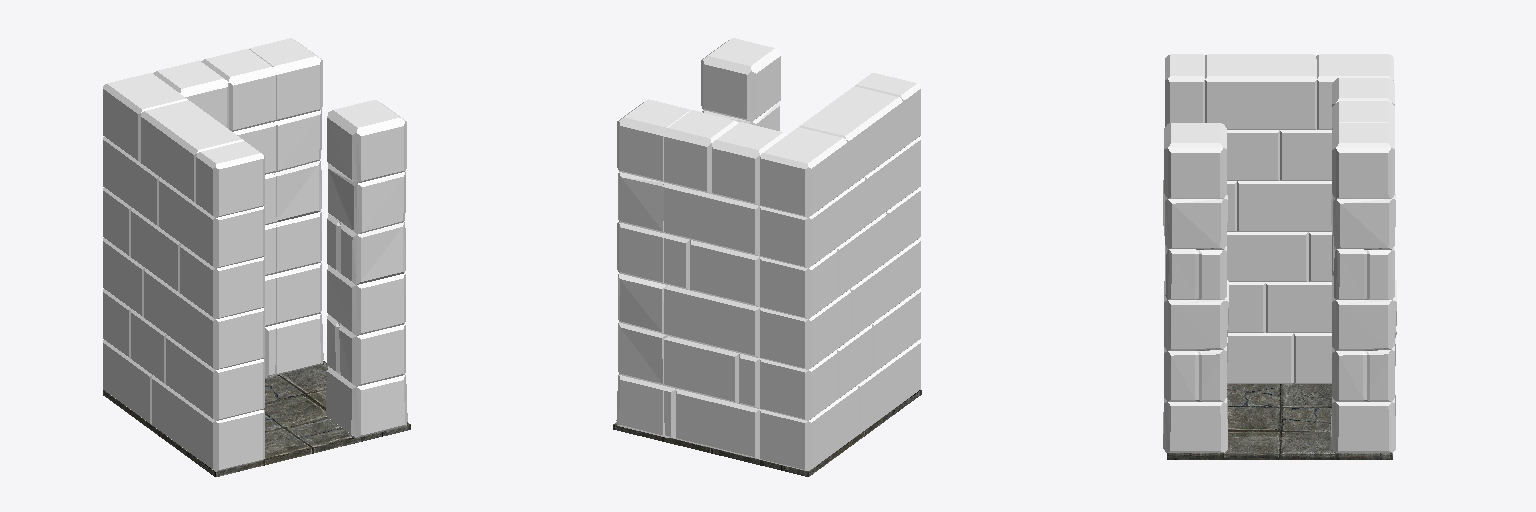
3 views of the same model, side by side, from view 1: azimuth 30°, elevation 25°; view 2: azimuth 150°, elevation 25°; view 3: azimuth 270°, elevation 25° (orthographic).
Parts seen in each view (by area): view 1: Box4139, Box4146, Box4145, Box001ui, Box4141; view 2: Box4139, Box001ui, Box4145, Box4146, Box4141; view 3: Box4139, Box4146, Box4145, Box4141, Box001ui.
Part boxes in pixels (left/top/right/bottom): Box4139: left=103, top=73, right=264, bottom=471; Box4146: left=326, top=100, right=407, bottom=437; Box4145: left=249, top=38, right=323, bottom=375; Box001ui: left=153, top=49, right=276, bottom=376; Box4141: left=103, top=361, right=410, bottom=476; Box4139: left=760, top=73, right=920, bottom=470; Box001ui: left=663, top=110, right=787, bottom=459; Box4145: left=616, top=99, right=690, bottom=437; Box4146: left=701, top=38, right=780, bottom=130; Box4141: left=613, top=390, right=921, bottom=476; Box4139: left=1165, top=54, right=1393, bottom=383; Box4146: left=1163, top=123, right=1228, bottom=452; Box4145: left=1331, top=123, right=1396, bottom=452; Box4141: left=1167, top=383, right=1392, bottom=459; Box001ui: left=1332, top=78, right=1394, bottom=280.
Size of the model in its own units: 2.03 by 3.08 by 2.09.
2 materials, 1 textured.